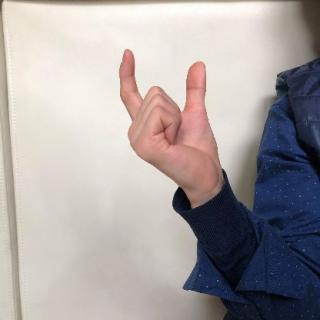NOON: (114, 43, 232, 194)
